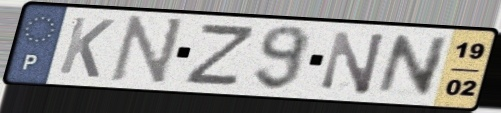9: (252, 23, 313, 94)
K: (55, 14, 118, 81)
N: (106, 14, 189, 89), (372, 33, 453, 98), (318, 29, 389, 97)
Z: (180, 23, 260, 89)
